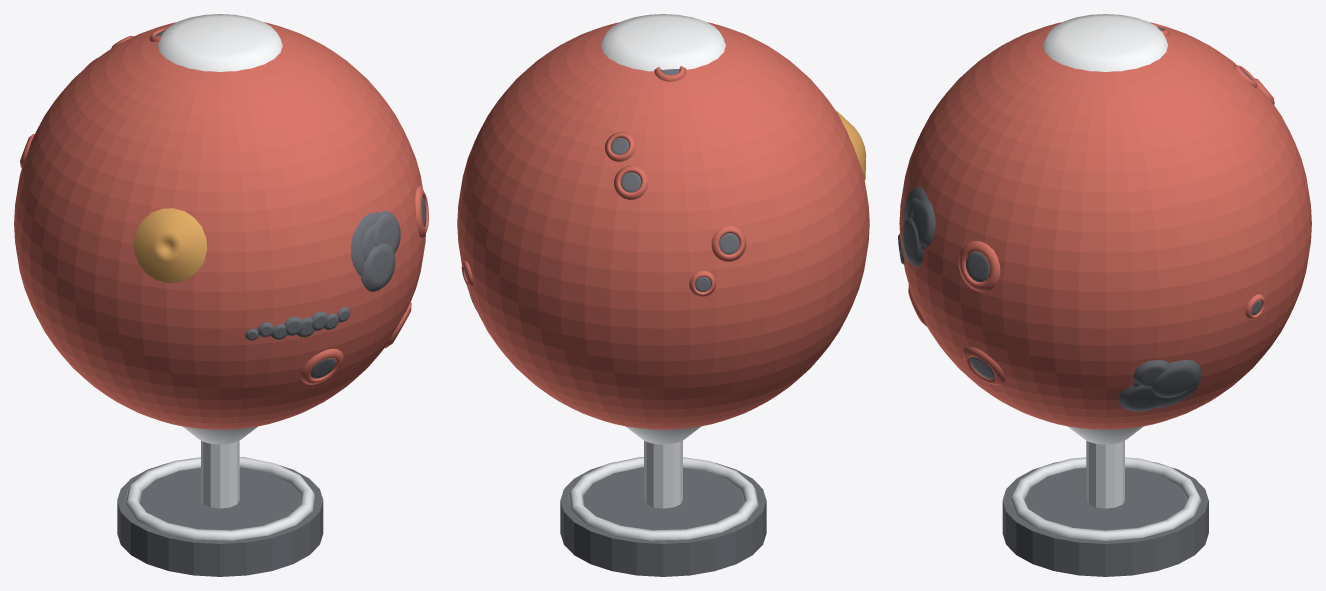
File: solar-system-and-astronauts-mars-model-9644f406__39232.glb
The picture shows the model from 3 angles, left to right: view 1: azimuth 30°, elevation 25°; view 2: azimuth 150°, elevation 25°; view 3: azimuth 270°, elevation 25°; orthographic projection.
Visible parts, largest first — view 1: mars-model; view 2: mars-model; view 3: mars-model.
Boxes of the visible parts, x1,y1,x2,y2 form: mars-model: (14,14,428,576); mars-model: (457,14,869,576); mars-model: (898,14,1311,576).
Bounding box in the file's own units: 0.34 × 0.4567 × 0.3412.
